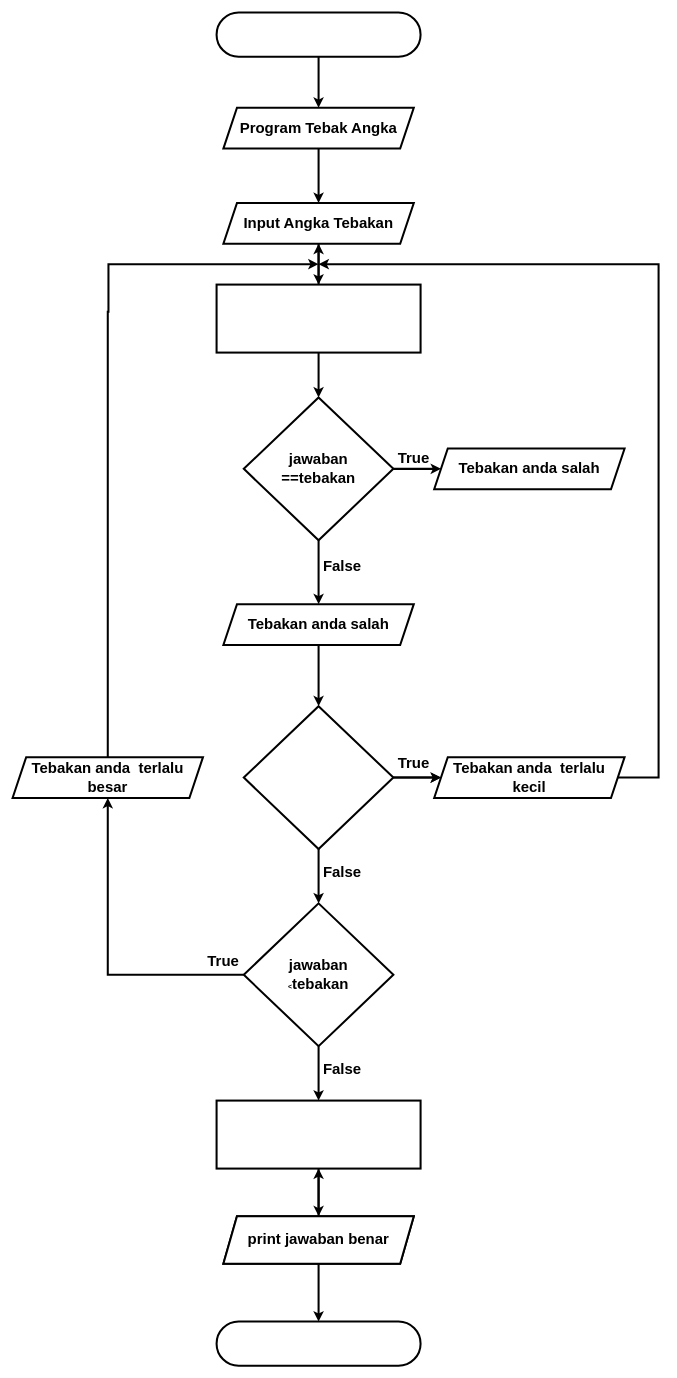
This 677x1378 diagram has some shape labels left out. Each missing label, with the centre of its shape:
"countNum==4" belongs at point (318, 1134).
"END" belongs at point (318, 1343).
"jawaban > tebakan" belongs at point (318, 777).
"jawaban==and()% BATAS_ATAS+BATAS_BAWAH" belongs at point (318, 318).
"START" belongs at point (318, 34).
